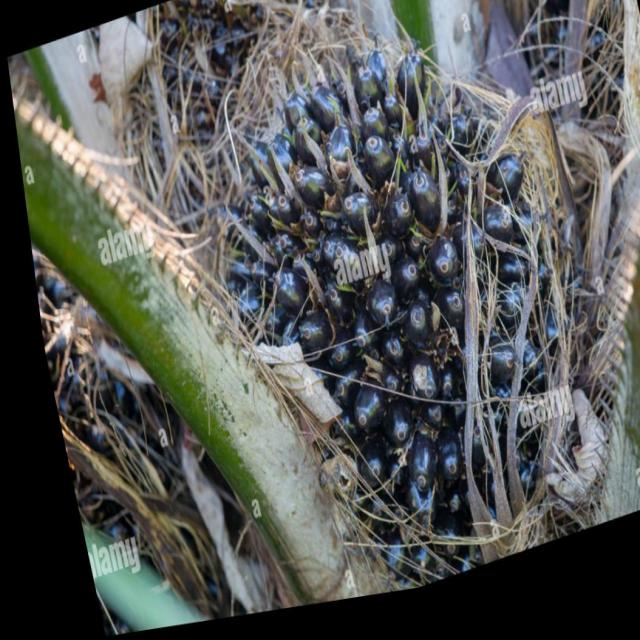Unripe: (172, 0, 615, 620)
